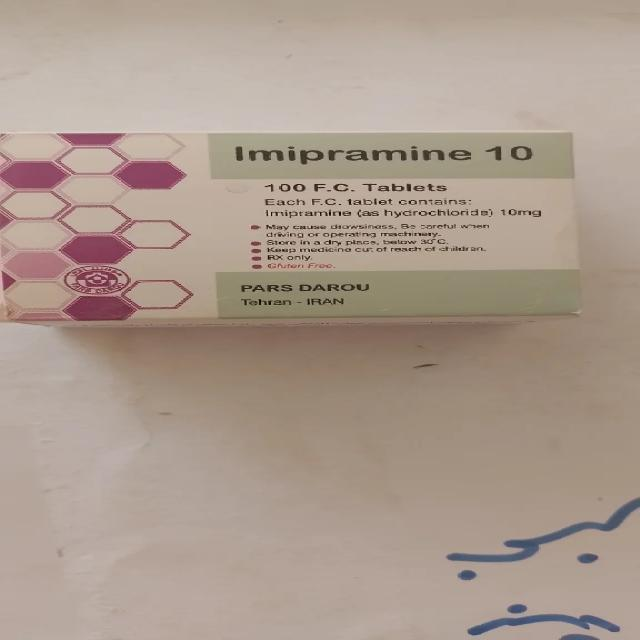drug-name: (229, 144, 536, 167)
